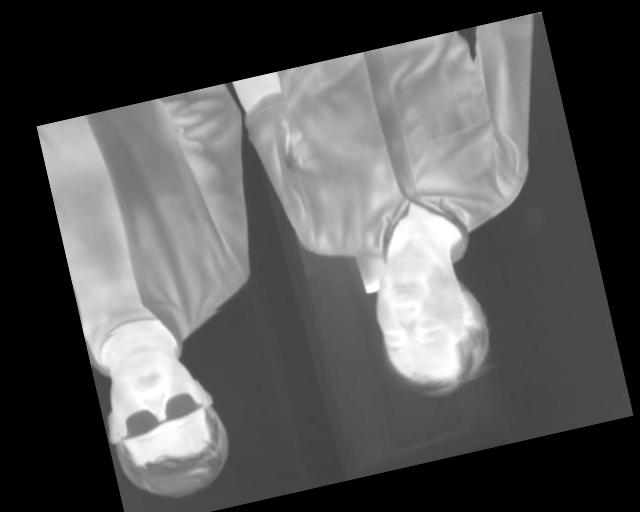face: (90, 333, 239, 510), (361, 237, 501, 407)
